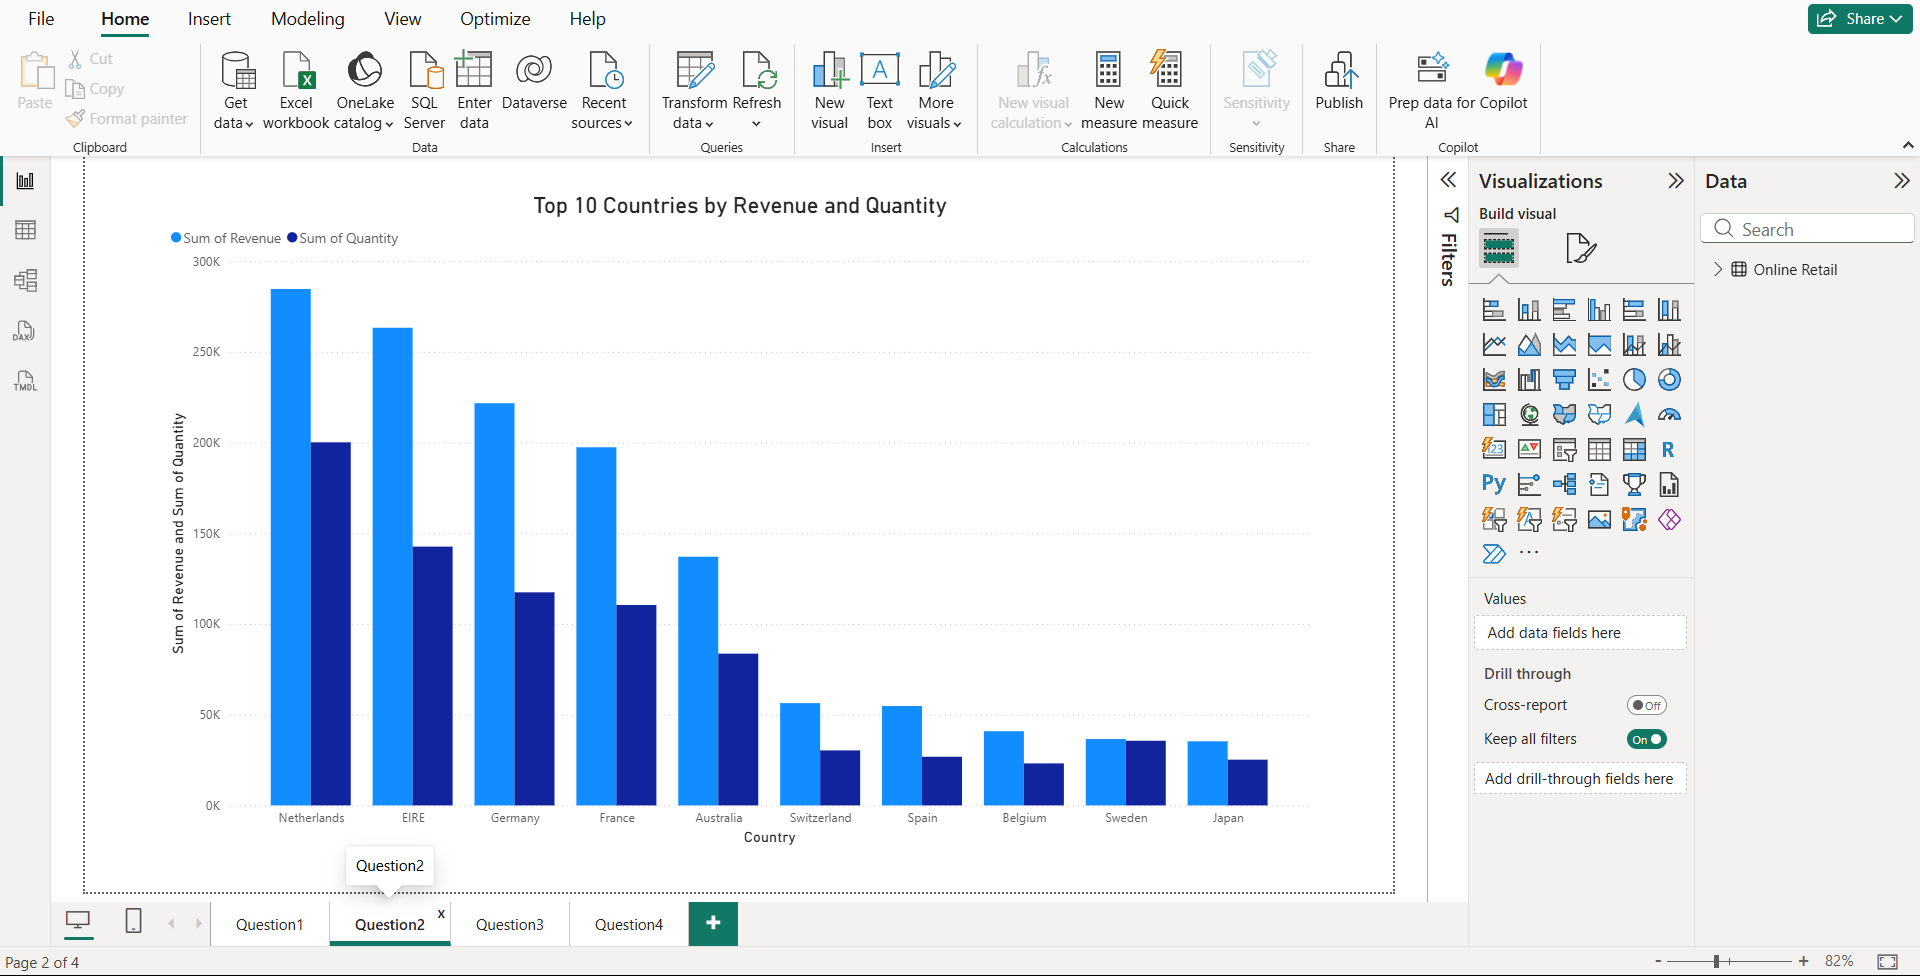

The page's visual inventory and layout, read from the dashboard file:
{"tool":"powerbi","page":{"name":"Question2","canvas":[1280,720],"ordinal":1},"visuals":[{"type":"clusteredColumnChart","title":"Top 10 Countries by Revenue and Quantity ","fields":{"Category":["Online Retail.Country"],"Y":["Sum(Online Retail.Revenue)","Sum(Online Retail.Quantity)"]},"box":[78.2,35.7,1125.2,643.6],"z":0}]}

Visuals, with their boxes on the page's 1280x720 design canvas (x1, y1, x2, y2). These are canvas units, not pixel positions in the 1920x976 screenshot, which may show the page scaled, cropped or inside an application window:
"Top 10 Countries by Revenue and Quantity " clusteredColumnChart: [78,36,1203,679]
